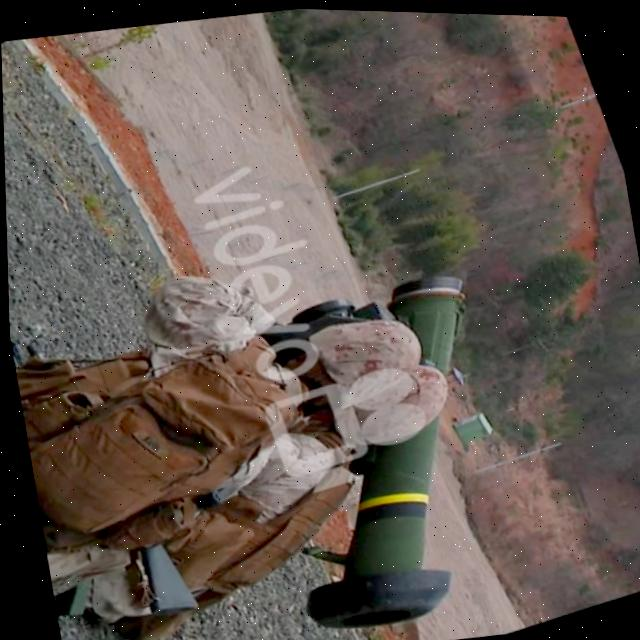rocket: (211, 259, 566, 640)
